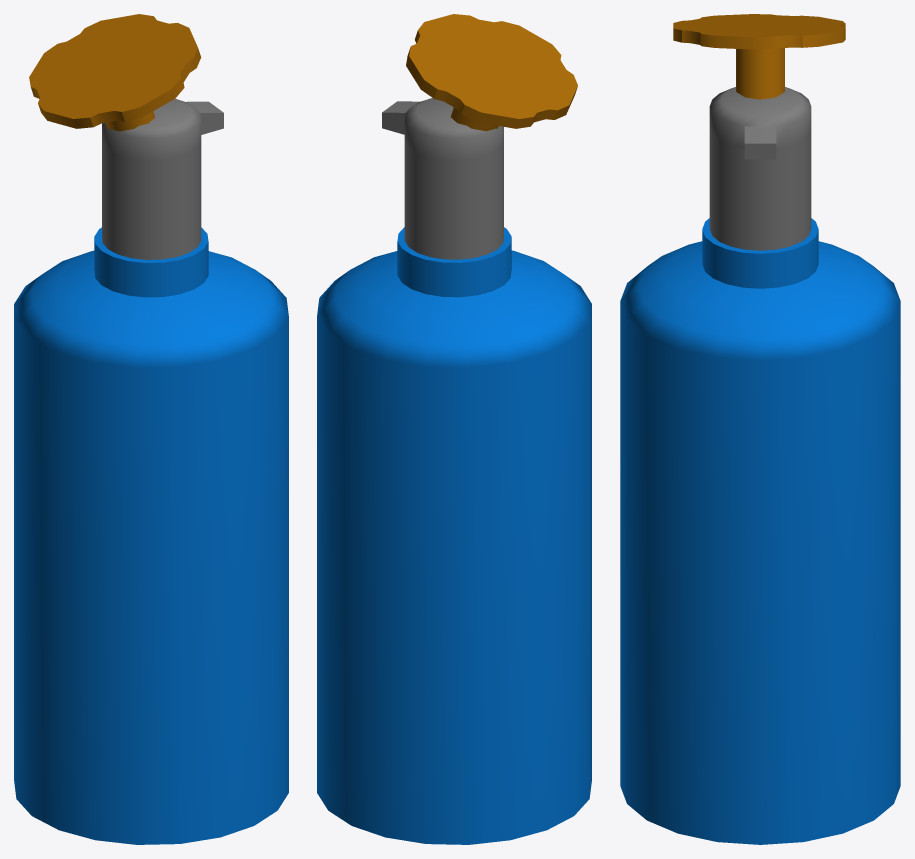
File: Space_Booster.fbx
3 views of the same model, side by side, from view 1: azimuth 30°, elevation 25°; view 2: azimuth 150°, elevation 25°; view 3: azimuth 270°, elevation 25° (orthographic).
Visible parts, largest first — view 1: Booster2; view 2: Booster2; view 3: Booster2.
Part boxes in pixels (<box>): Booster2: <box>14,14,288,844</box>; Booster2: <box>317,14,591,844</box>; Booster2: <box>620,14,900,844</box>.
Bounding box in the file's own units: 1.37 × 4.11 × 1.37.
